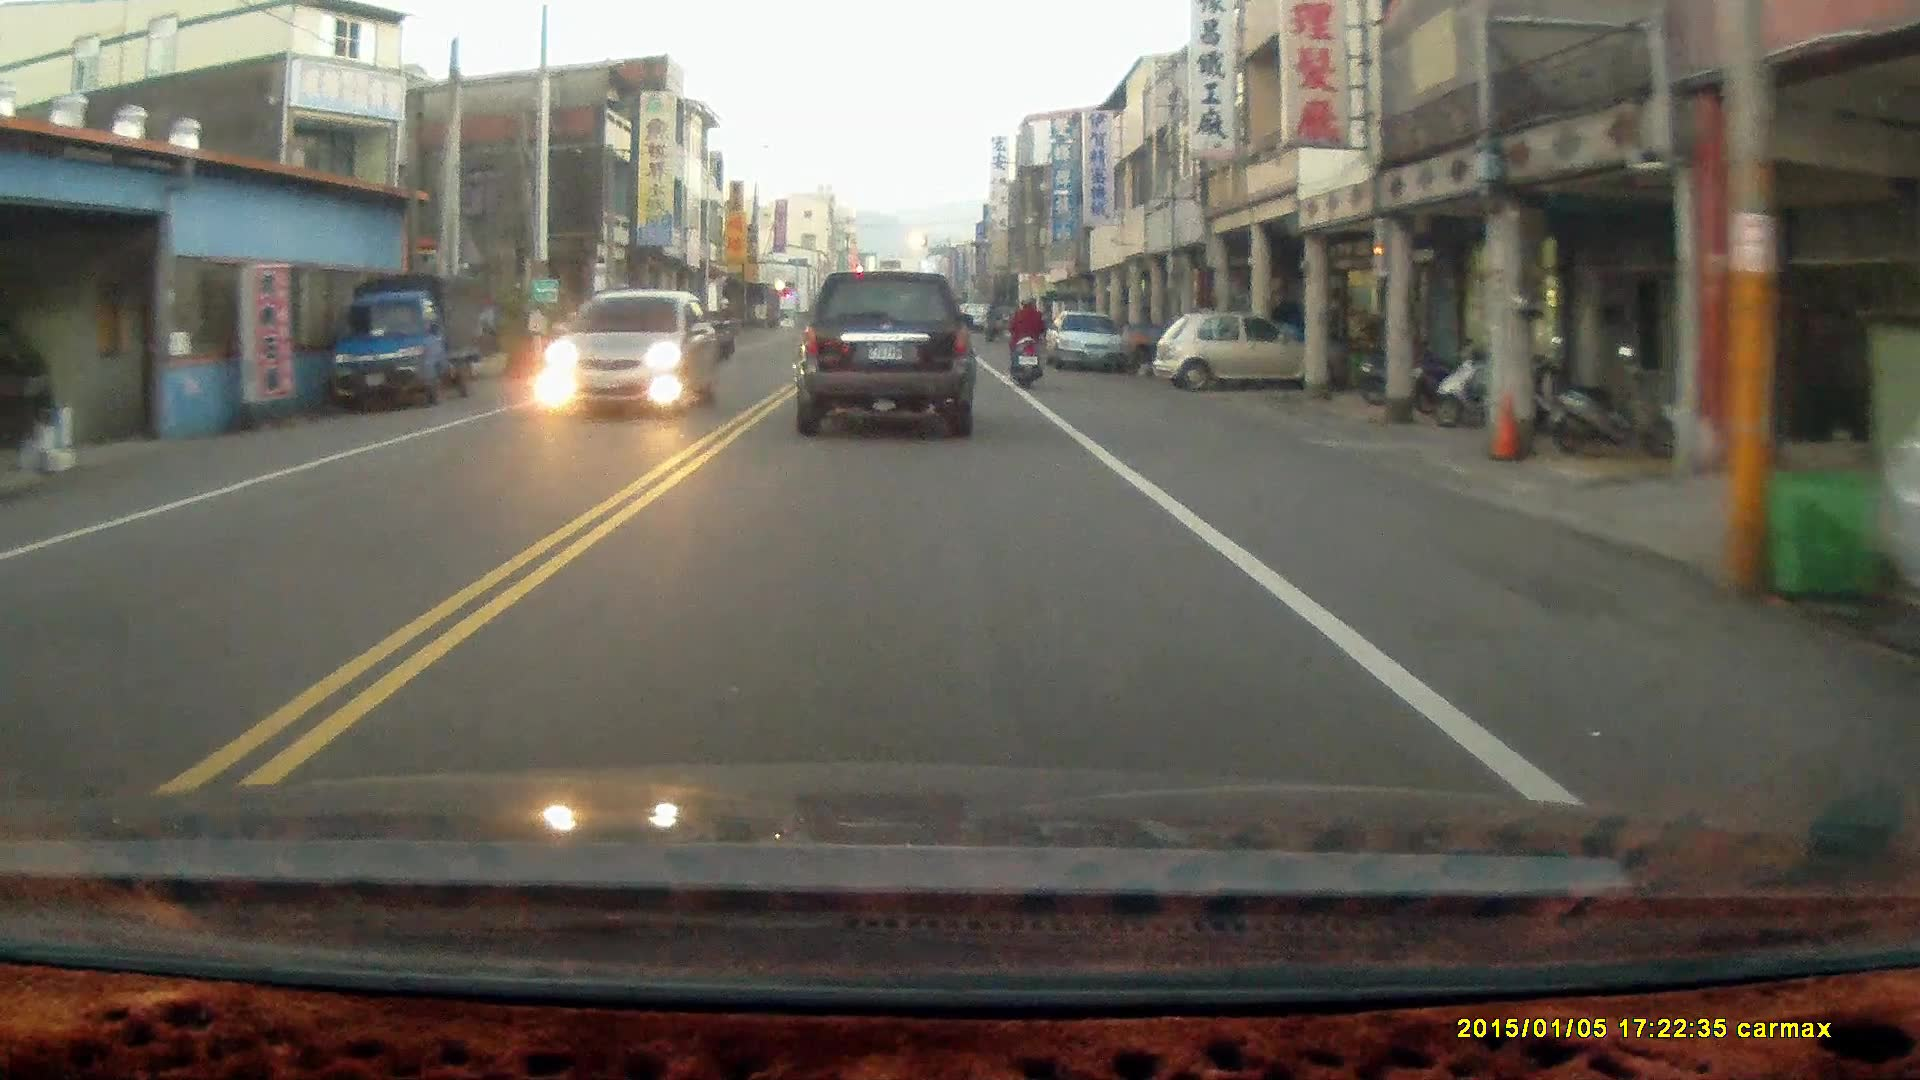rider: (1006, 291, 1043, 386), (705, 295, 738, 357)
vehicle: (792, 265, 977, 438), (331, 270, 491, 415), (547, 287, 723, 418), (1157, 307, 1328, 392), (1047, 312, 1134, 371)
